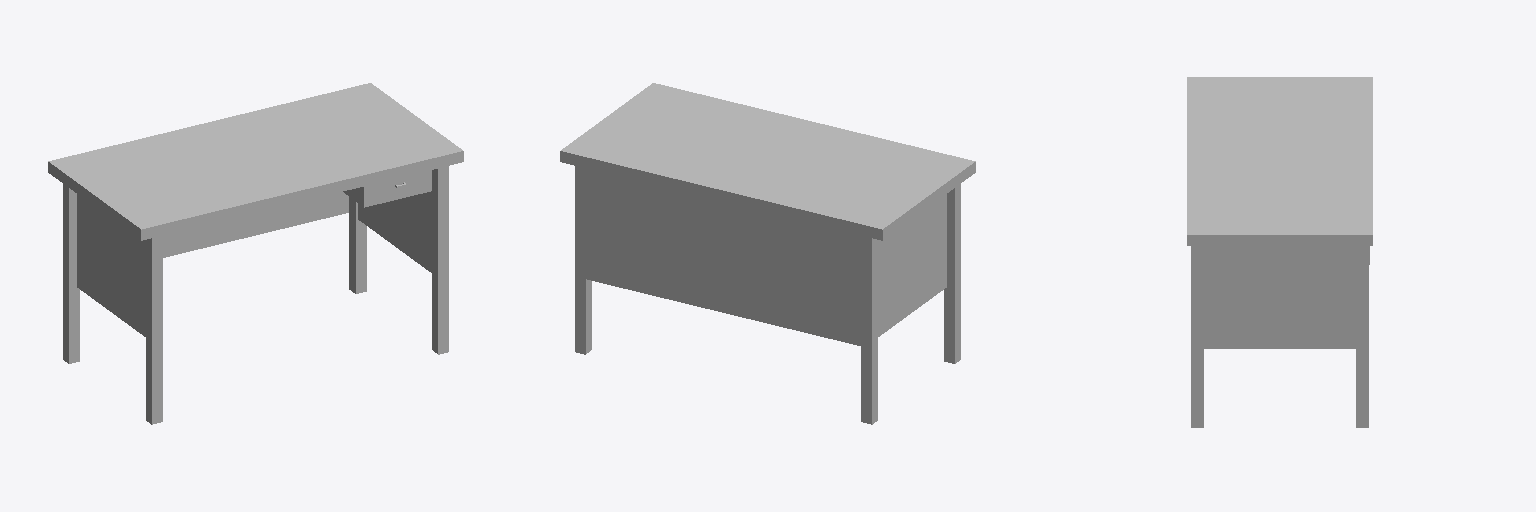
The model's file is mesa.obj.
The picture shows the model from 3 angles: view 1: azimuth 30°, elevation 25°; view 2: azimuth 150°, elevation 25°; view 3: azimuth 270°, elevation 25°; orthographic projection.
Visible parts, largest first — view 1: Grid_MesaGrande; view 2: Grid_MesaGrande; view 3: Grid_MesaGrande.
Part boxes in pixels (x1,y1,x2,y2): Grid_MesaGrande: (48, 83, 463, 424); Grid_MesaGrande: (560, 83, 975, 424); Grid_MesaGrande: (1187, 77, 1372, 427).
Size of the model in its own units: 120 by 71.02 by 60.